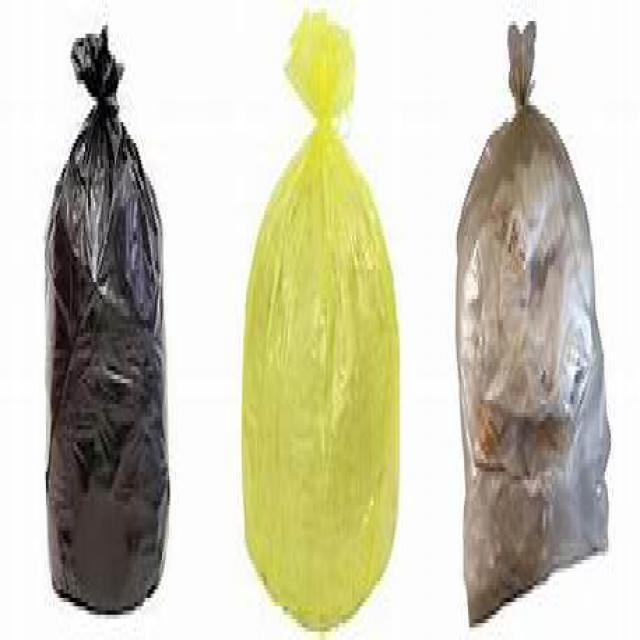waste: (235, 0, 402, 616), (39, 37, 170, 600)
